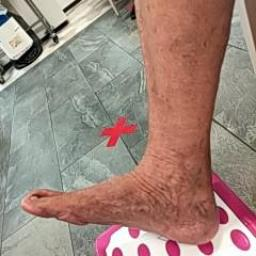Medial View -Right Foot-: (4, 138, 244, 250)
